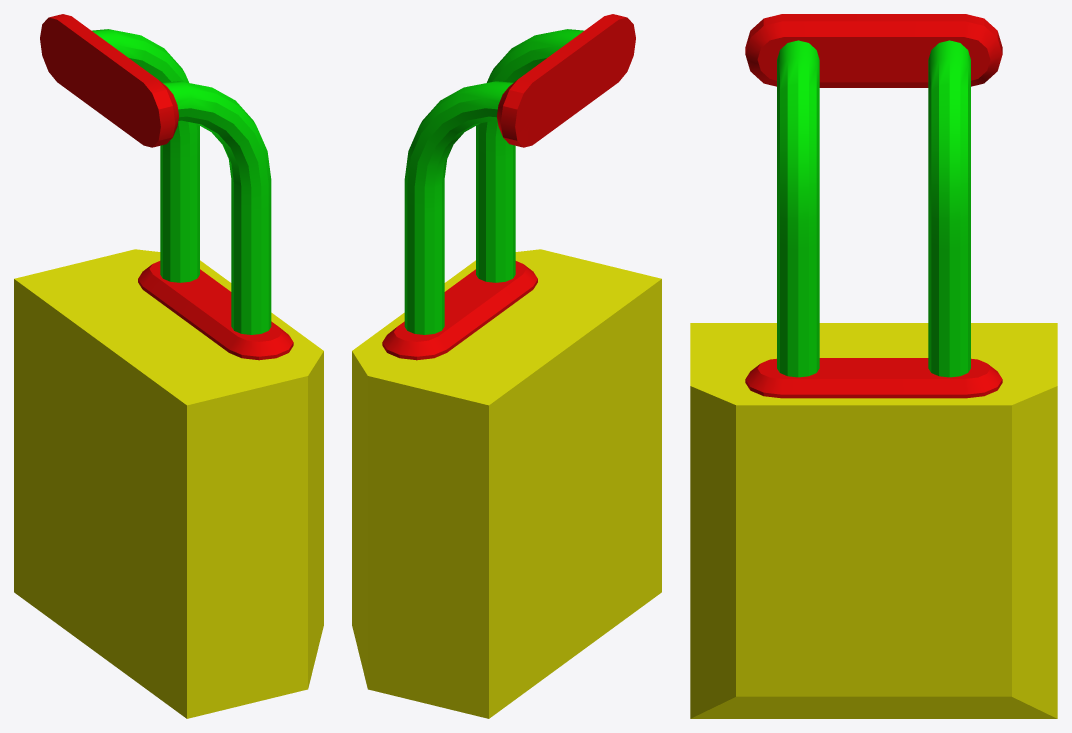
Rendered from FuseBox_SM.fbx.
3 views of the same model, side by side, from view 1: azimuth 30°, elevation 25°; view 2: azimuth 150°, elevation 25°; view 3: azimuth 270°, elevation 25° (orthographic). The views are drawn at different scales.
Visible parts, largest first — view 1: polySurface20; view 2: polySurface20; view 3: polySurface20.
Boxes of the visible parts, left/top/right/bottom form: polySurface20: left=14, top=14, right=323, bottom=718; polySurface20: left=352, top=14, right=661, bottom=718; polySurface20: left=690, top=14, right=1057, bottom=718.
Bounding box in the file's own units: 1.06 × 3.86 × 2.
